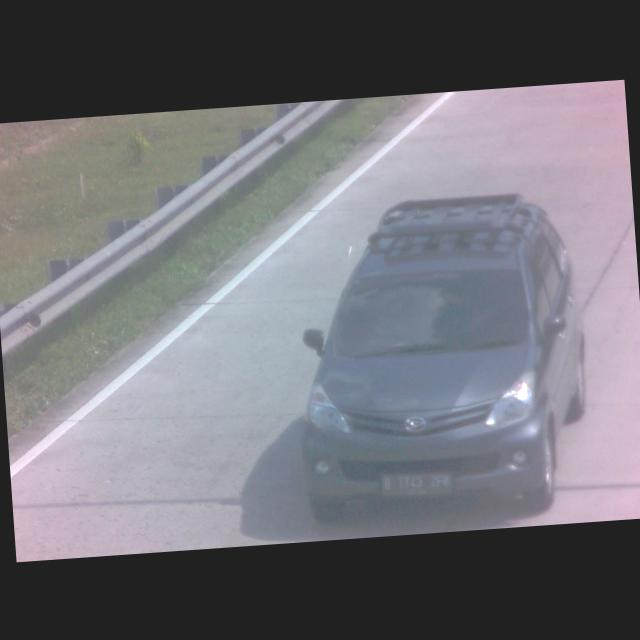plate: (378, 466, 455, 498)
